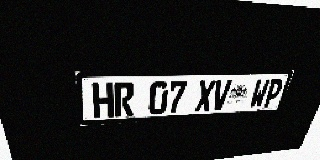0: (148, 81, 169, 115)
7: (166, 81, 187, 114)
H: (92, 82, 114, 118)
P: (262, 79, 285, 108)
R: (114, 82, 134, 117)
V: (210, 80, 232, 111)
W: (248, 79, 271, 108)
X: (194, 80, 216, 112)
